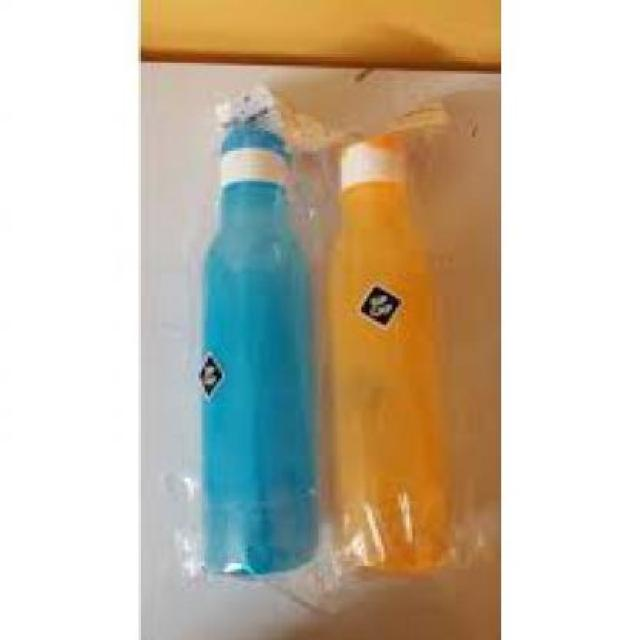Drinking: (202, 120, 322, 588)
